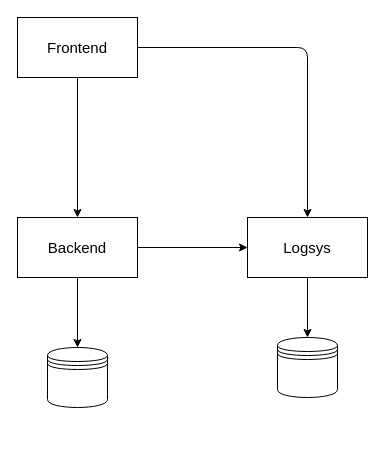
Image size: 385x450. Some labels were removed from this diagram. The shapes that lost their labels are listed below. From the top down, each one's centre as x and y in pixels, then its label:
the point at 77,377: PostgreeSQL
the point at 307,367: Loki
